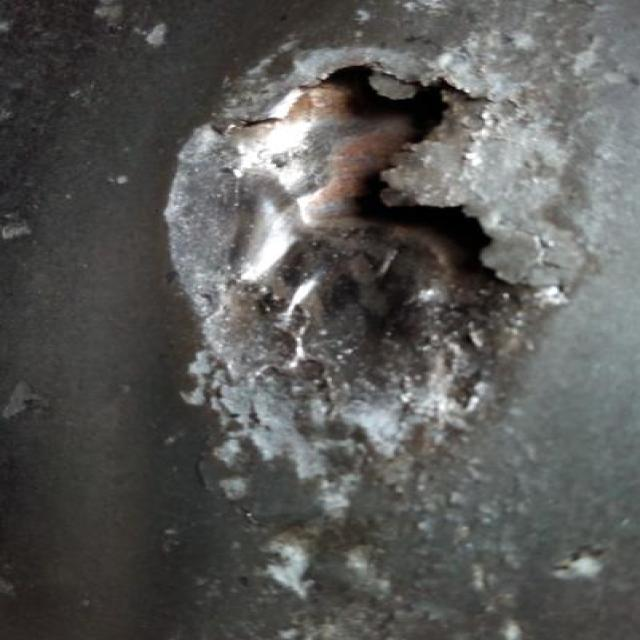Blue hole: (207, 36, 542, 430)
